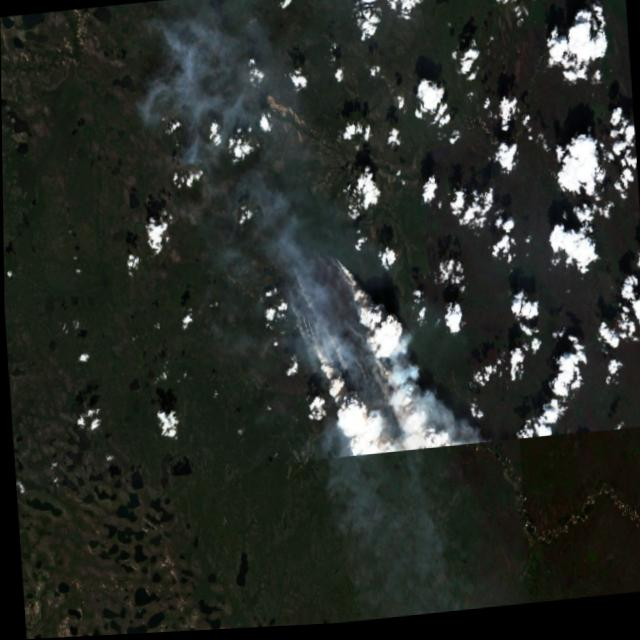fire: (275, 218, 448, 462)
